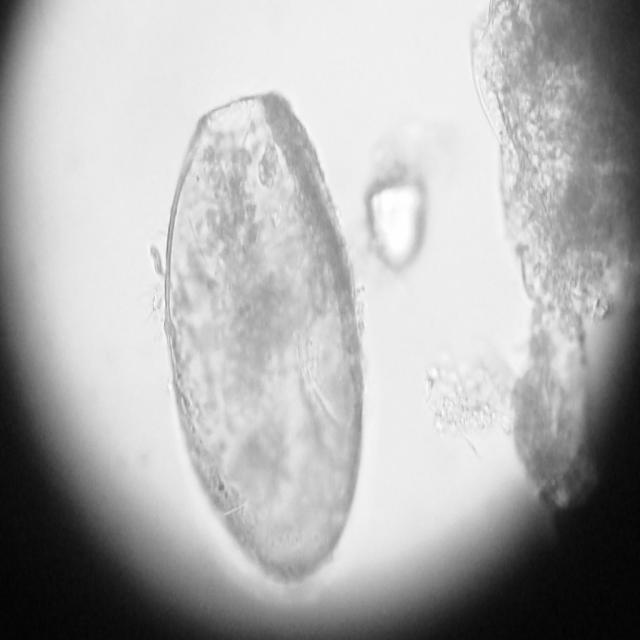Fasciola Hepatica: (157, 79, 370, 601)
